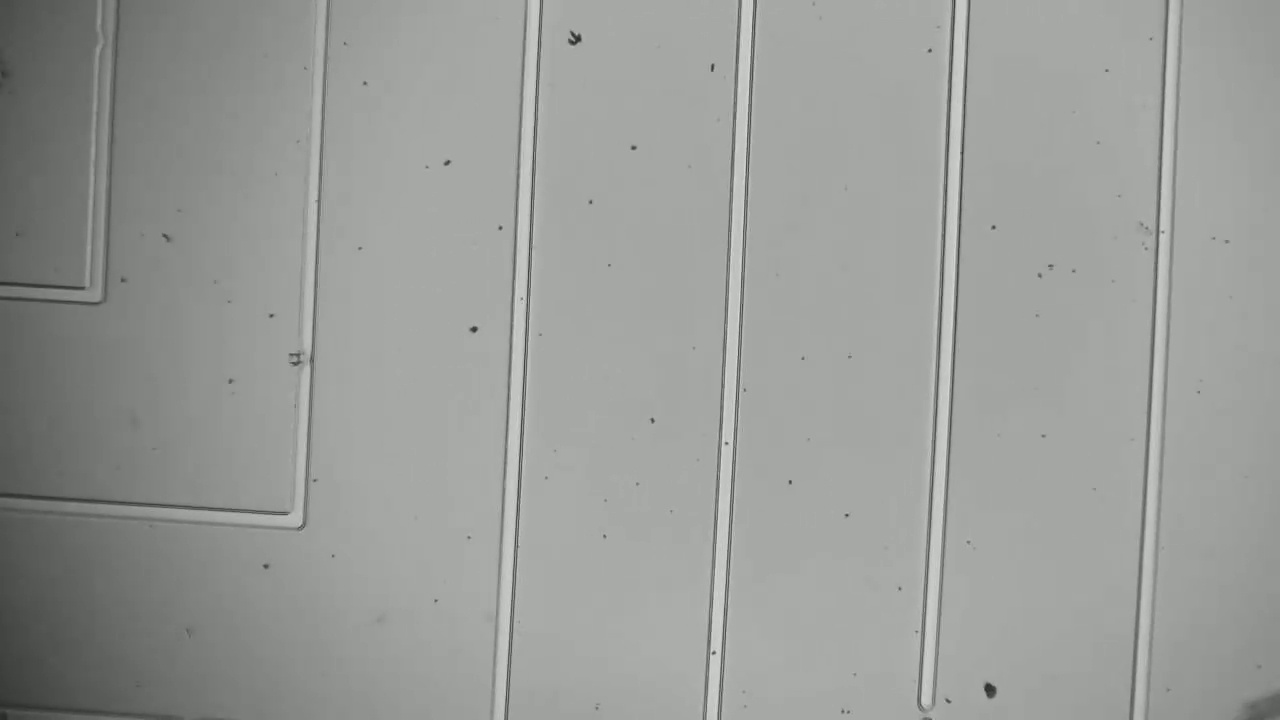edge_bite: (83, 17, 131, 72), (275, 335, 322, 384)
open: (896, 683, 950, 719)
